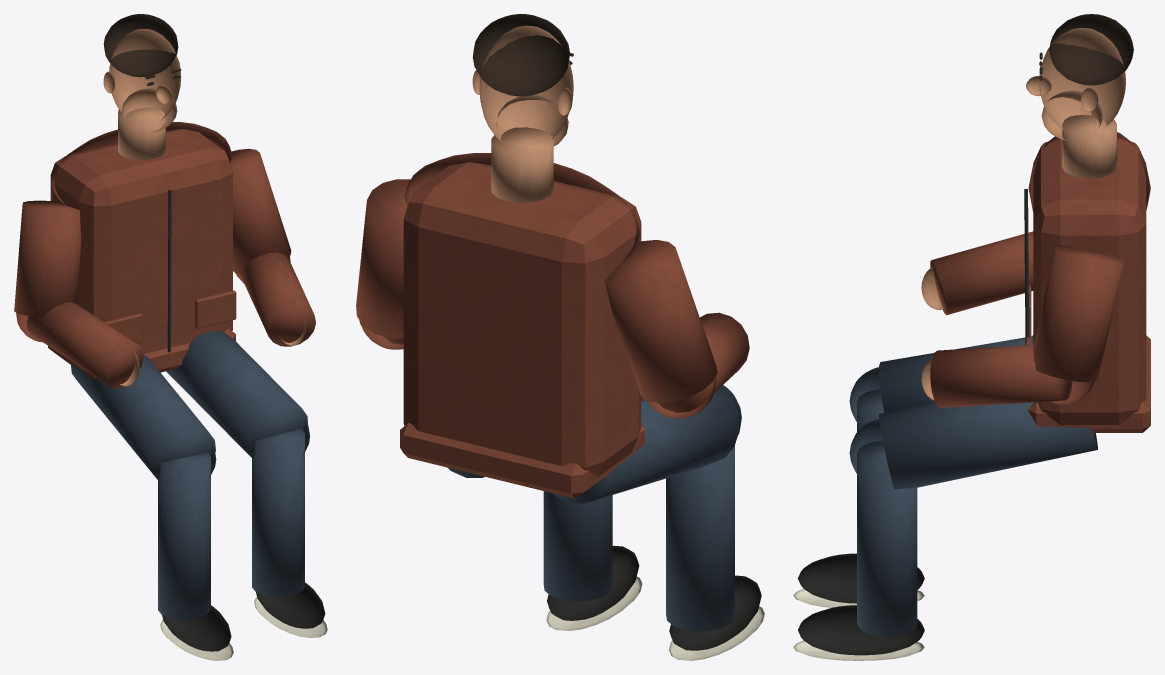
Rendered from guest_seated_b.glb.
3 renders of one model, left to right at view 1: azimuth 30°, elevation 25°; view 2: azimuth 150°, elevation 25°; view 3: azimuth 270°, elevation 25°, orthographic. The views are drawn at different scales.
Visible parts, largest first — view 1: Character_static_mesh.002; view 2: Character_static_mesh.002; view 3: Character_static_mesh.002.
Part boxes in pixels (x1,y1,x2,y2): Character_static_mesh.002: (14, 14, 327, 660); Character_static_mesh.002: (356, 14, 764, 660); Character_static_mesh.002: (793, 14, 1150, 660).
Bounding box in the file's own units: 0.7466 × 1.43 × 0.76.
7 materials, 7 textured.
